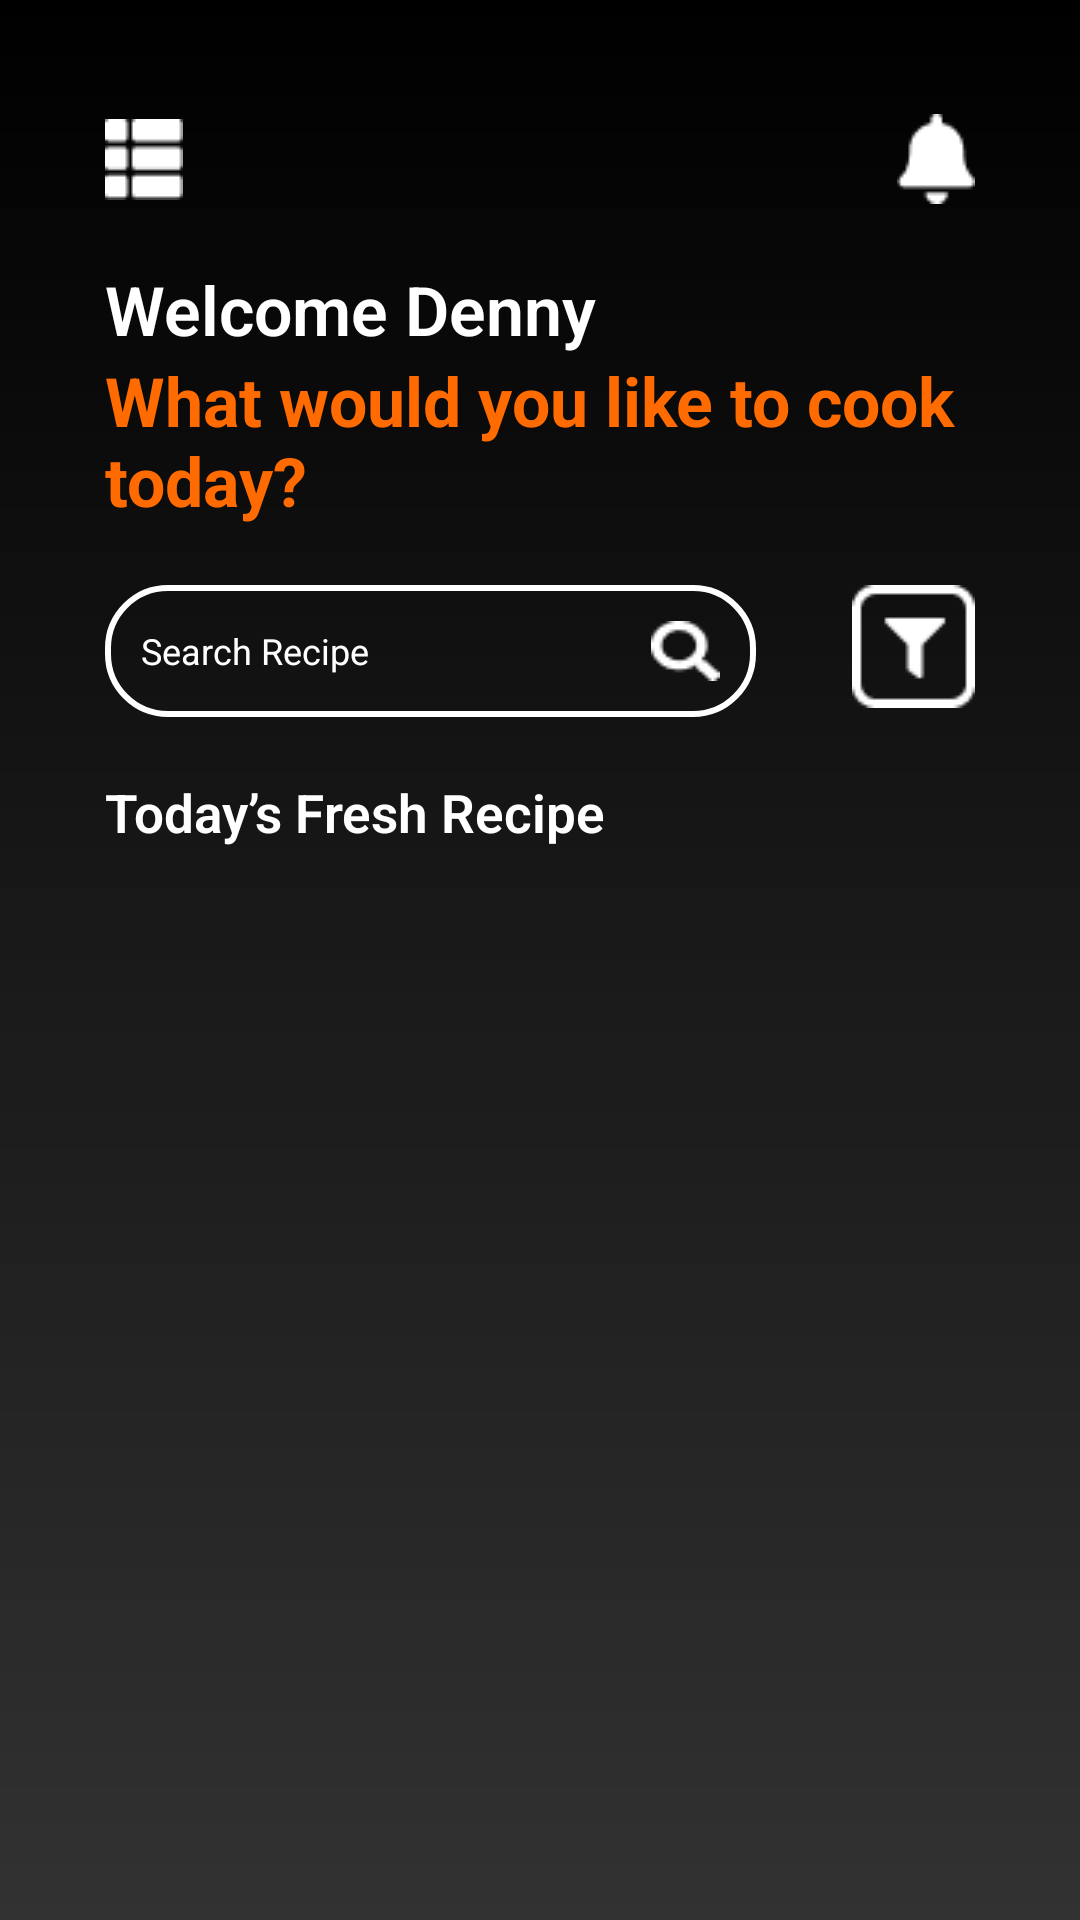

Screen size 1080×1920. Icon name, then its center in pixels as [x,y]:
menu: [144,159]
notif: [936,159]
sorting: [913,646]
